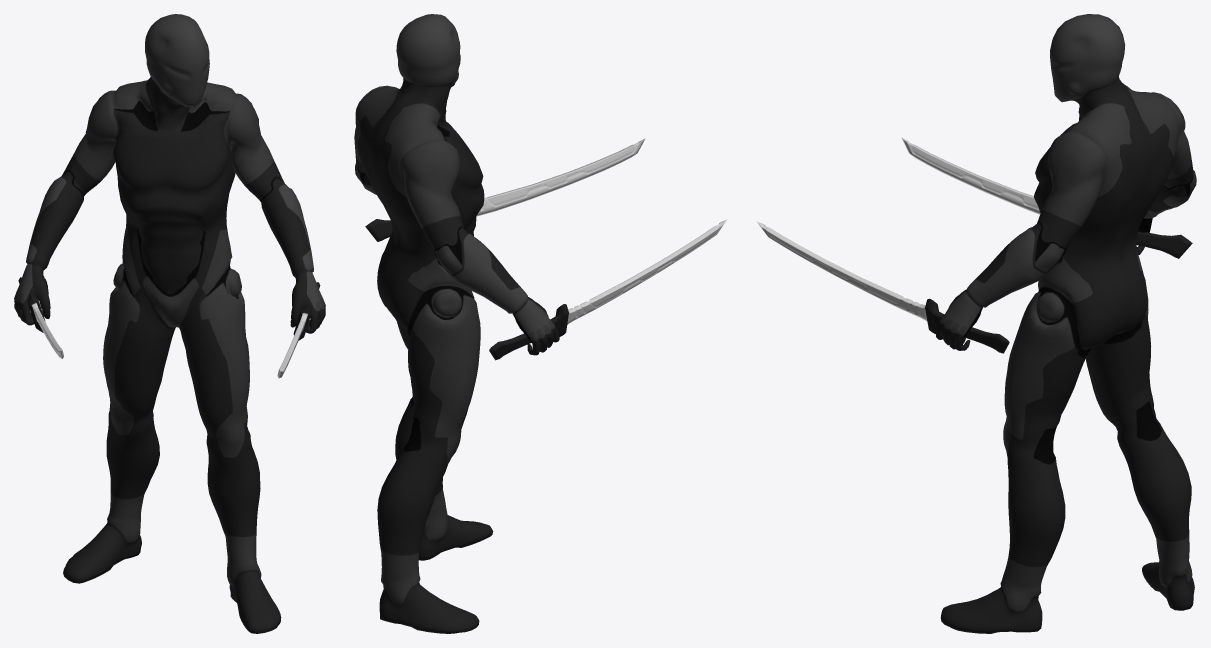
The picture shows the model from 3 angles, left to right: view 1: azimuth 30°, elevation 25°; view 2: azimuth 150°, elevation 25°; view 3: azimuth 270°, elevation 25°; orthographic projection. The views are drawn at different scales.
Visible parts, largest first — view 1: Cyborg_Ninja_Killer, Sword_l, Sword_l001; view 2: Cyborg_Ninja_Killer, Sword_l001, Sword_l; view 3: Cyborg_Ninja_Killer, Sword_l, Sword_l001.
Part boxes in pixels (x1=…): Cyborg_Ninja_Killer: x1=14, y1=14, x2=325, y2=633; Sword_l: x1=277, y1=282, x2=320, y2=378; Sword_l001: x1=18, y1=277, x2=63, y2=358; Cyborg_Ninja_Killer: x1=354, y1=14, x2=559, y2=633; Sword_l001: x1=489, y1=219, x2=727, y2=360; Sword_l: x1=365, y1=138, x2=645, y2=241; Cyborg_Ninja_Killer: x1=936, y1=14, x2=1196, y2=633; Sword_l: x1=756, y1=221, x2=1009, y2=353; Sword_l001: x1=901, y1=137, x2=1192, y2=258.
Bounding box in the file's own units: 104 × 182 × 123.
Materials: 2 (2 with a texture image).
